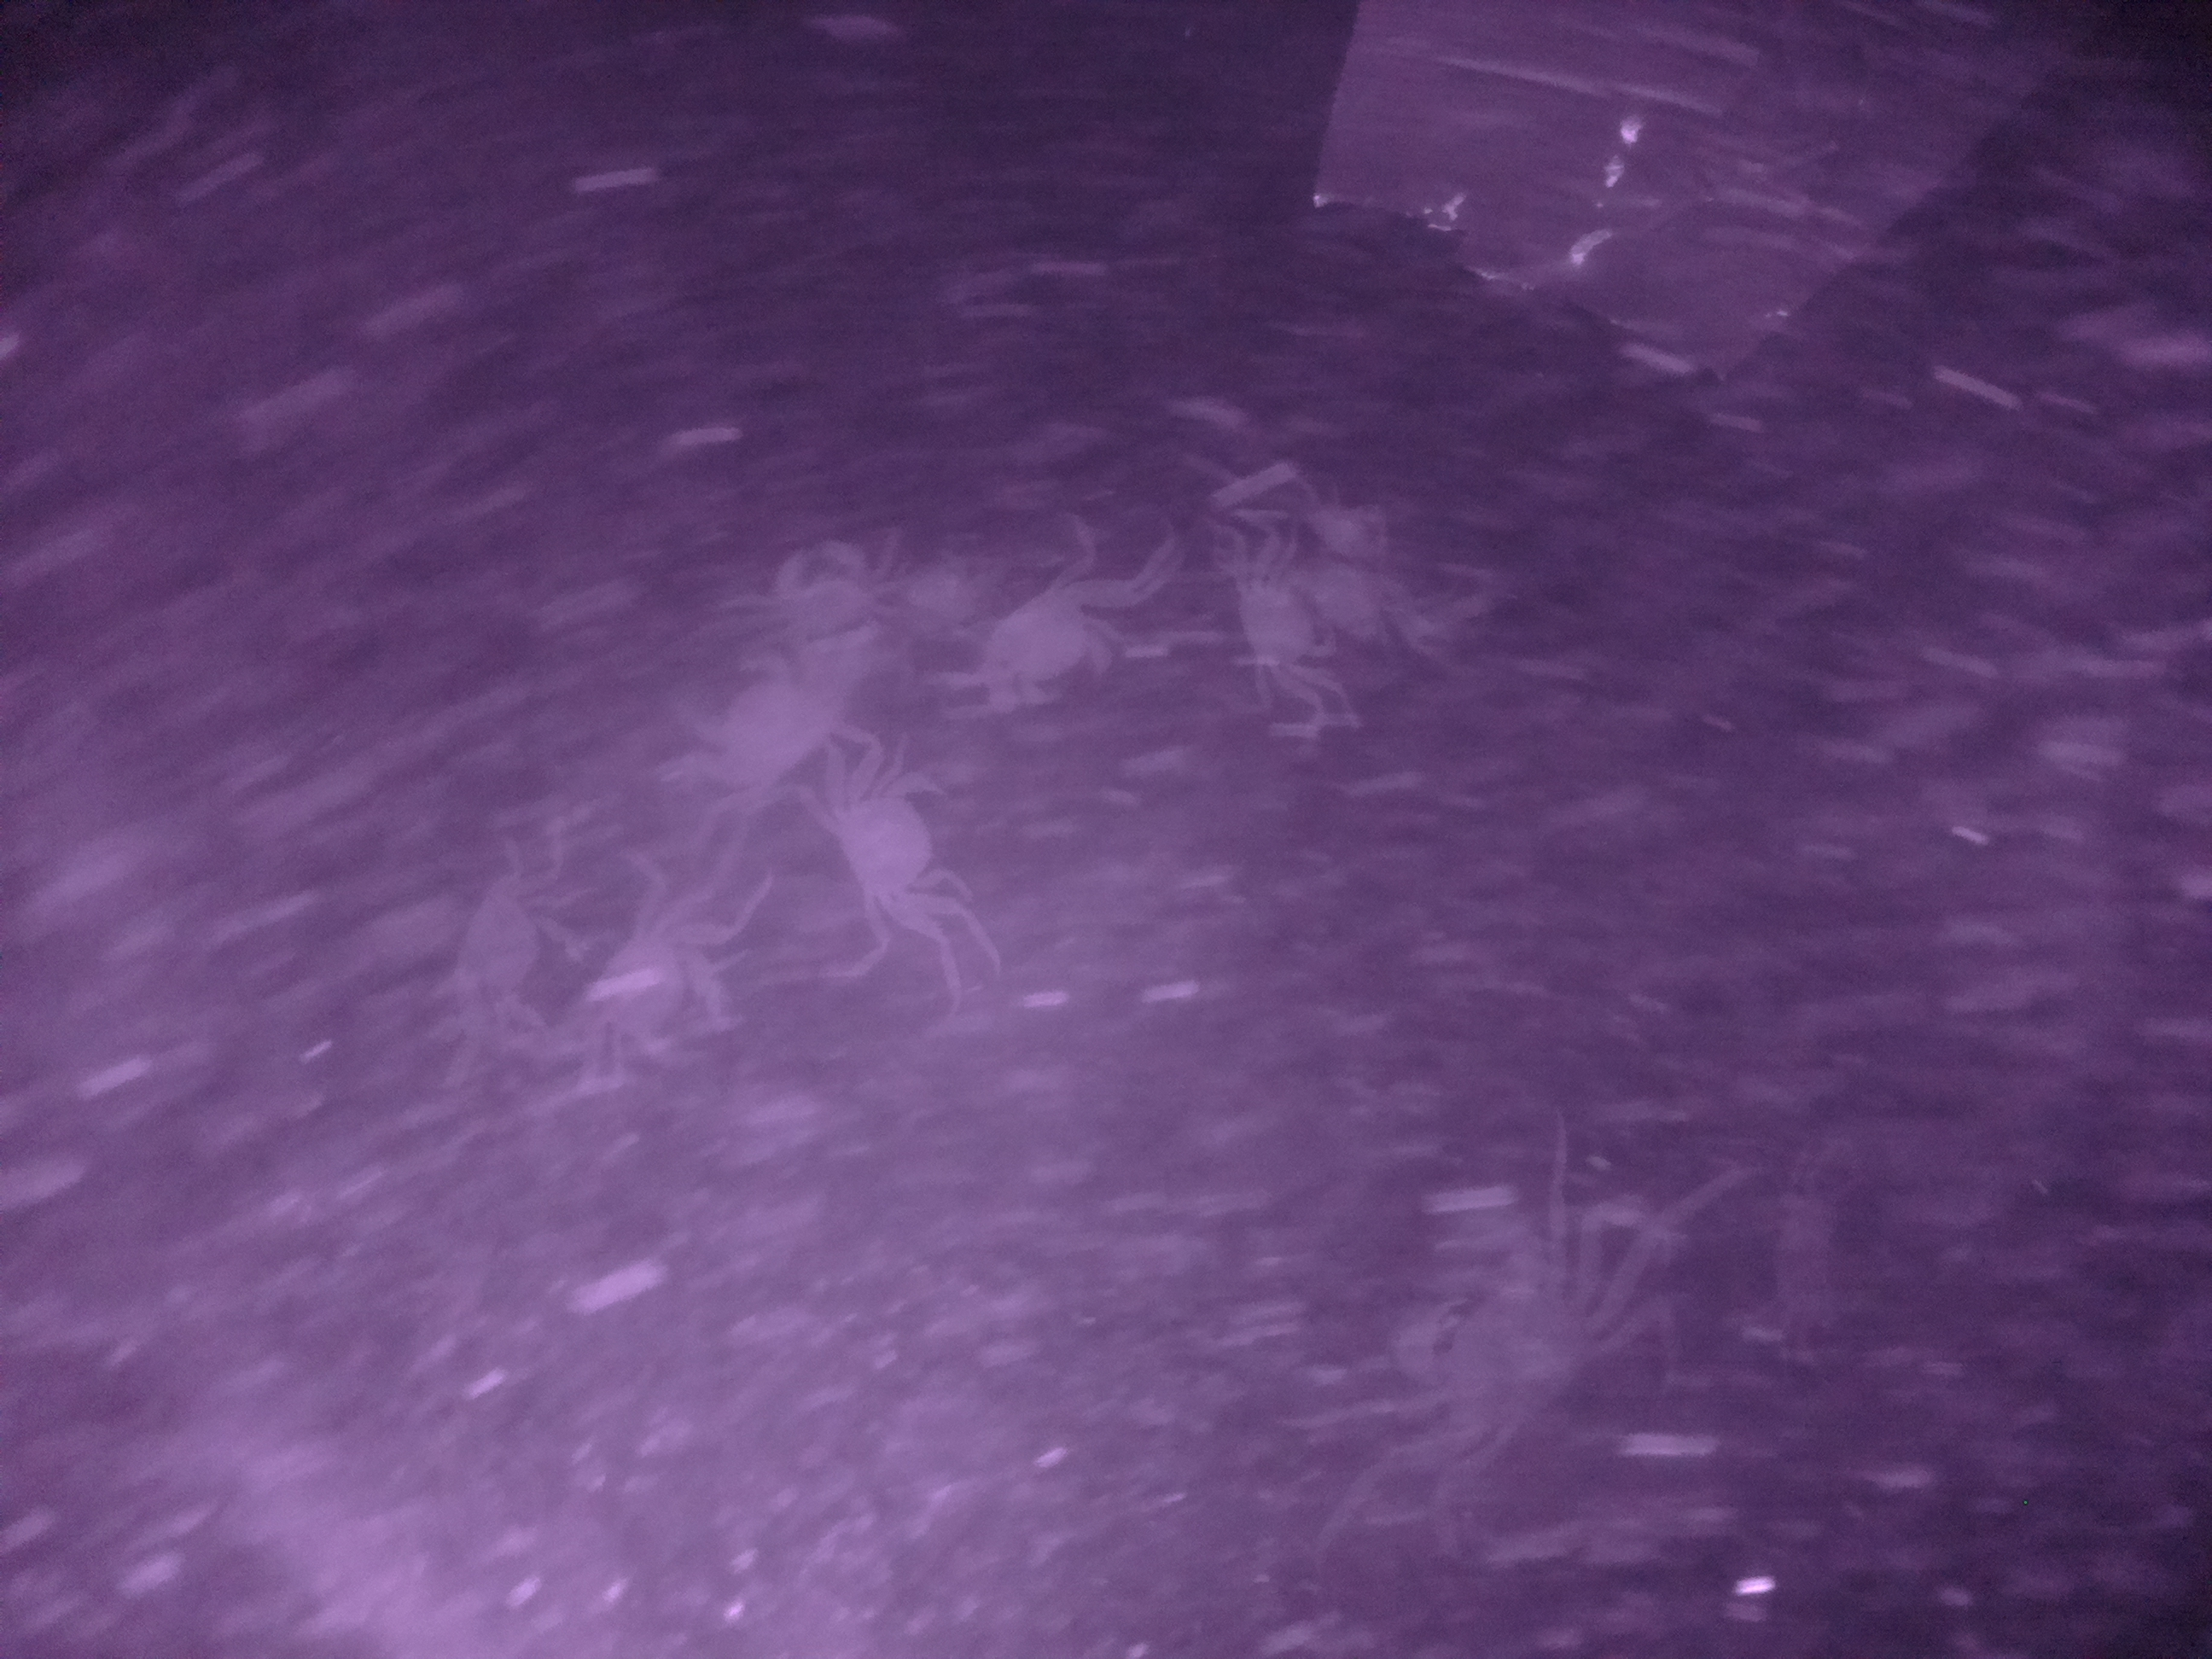Crab: (946, 538, 1179, 749), (815, 732, 977, 951), (1226, 464, 1355, 734)
